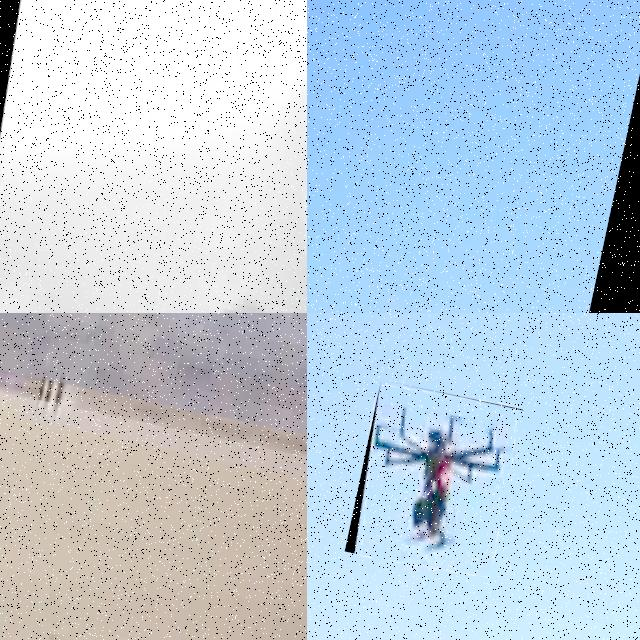drone: (0, 0, 307, 313), (344, 379, 523, 581)
